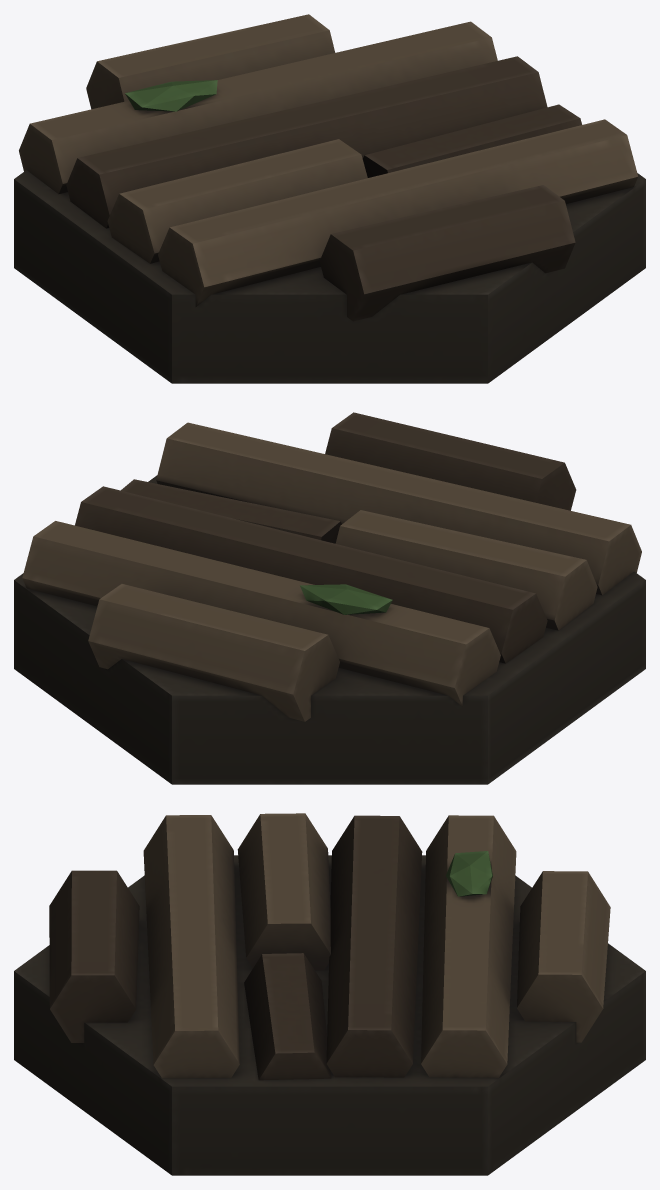
File: tile_hex_planks_b.glb
3 renders of one model, top to bottom at view 1: azimuth 30°, elevation 25°; view 2: azimuth 150°, elevation 25°; view 3: azimuth 270°, elevation 25°, orthographic.
Visible parts, largest first — view 1: tile_hex_planks_b; view 2: tile_hex_planks_b; view 3: tile_hex_planks_b.
Part boxes in pixels (x1,y1,x2,y2): tile_hex_planks_b: [14, 14, 645, 383]; tile_hex_planks_b: [14, 412, 645, 784]; tile_hex_planks_b: [14, 813, 645, 1175].
Bounding box in the file's own units: 1.12 × 0.342 × 1.29.
Materials: 1 (1 with a texture image).
